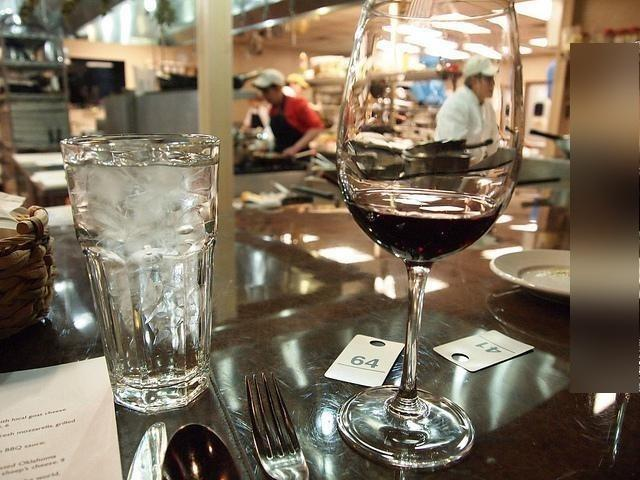glass-normal: (57, 129, 223, 413)
glass-wine: (336, 1, 524, 467)
